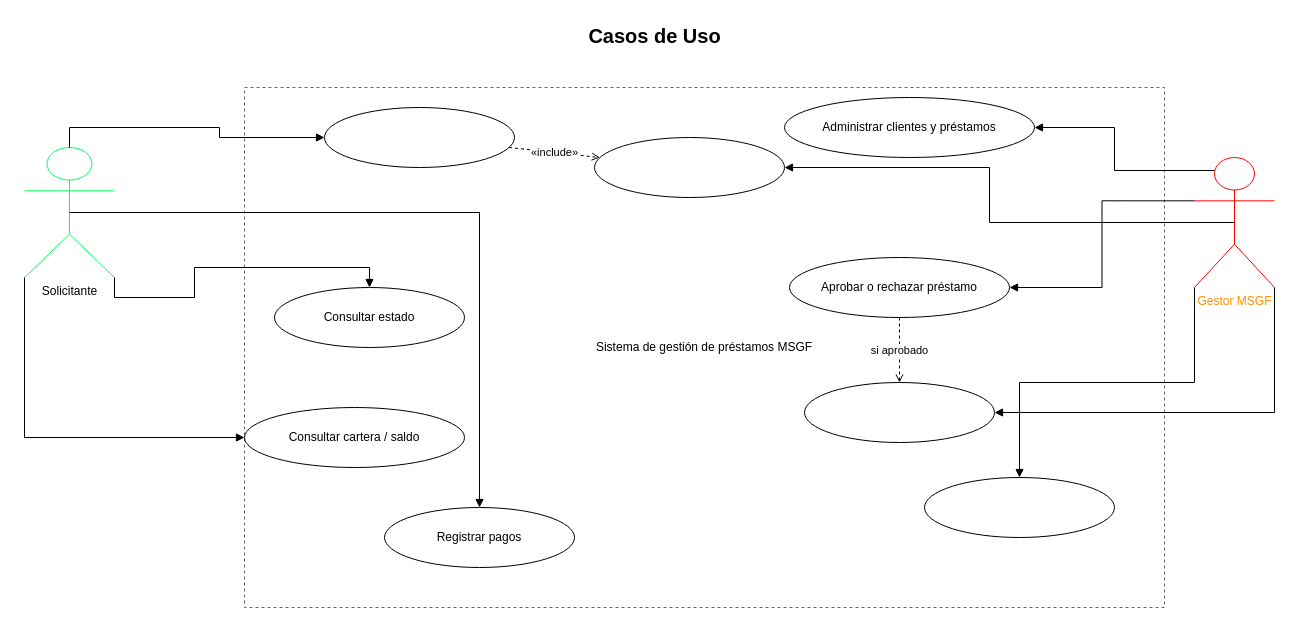
Some shapes in this 1300 by 633 pixel diagram are drawn without their labels. The shapes that lost their labels are listed below. From the top down, each one's centre as x and y in pixels, then its label:
(419,137): Registrar solicitud
(689,167): Evaluar solicitud
(899,412): Formalizar préstamo
(1019,507): Registrar desembolso
